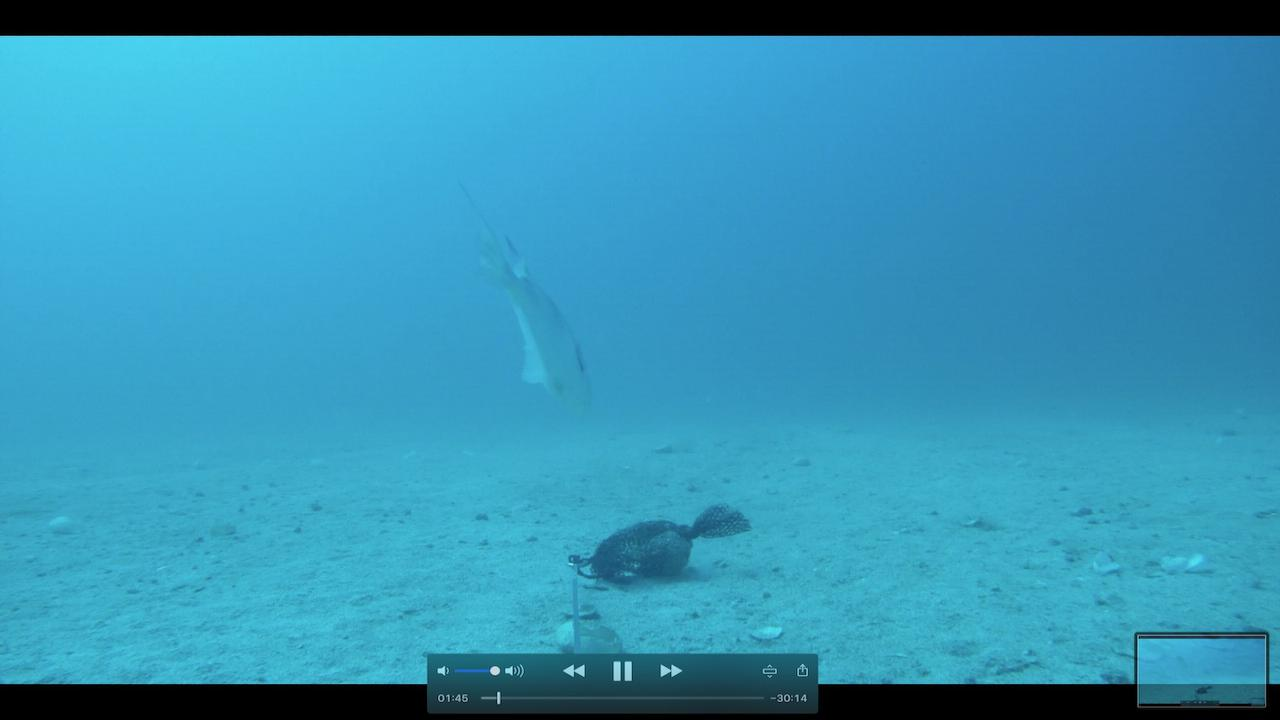balistes: (453, 180, 596, 421)
